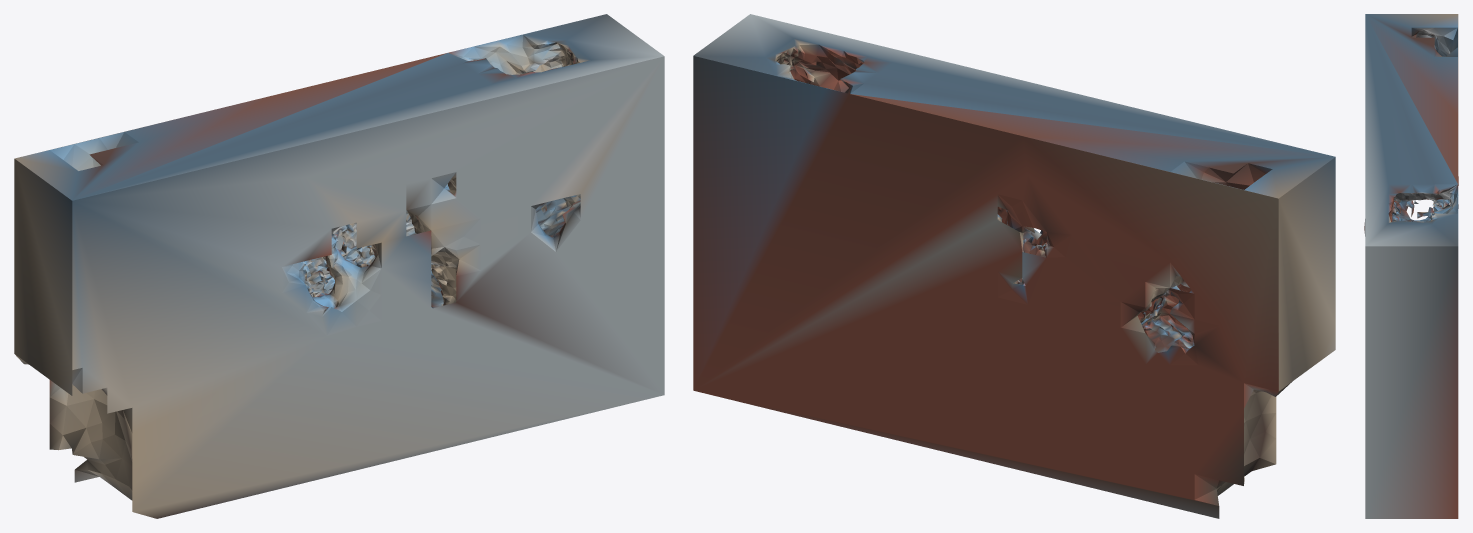
The picture shows the model from 3 angles, left to right: view 1: azimuth 30°, elevation 25°; view 2: azimuth 150°, elevation 25°; view 3: azimuth 270°, elevation 25°; orthographic projection. The views are drawn at different scales.
Visible parts, largest first — view 1: node_0; view 2: node_0; view 3: node_0.
Part boxes in pixels (box(x1,y1,x2,y2)): node_0: box(14, 14, 664, 518); node_0: box(693, 14, 1335, 518); node_0: box(1364, 14, 1458, 518).
Size of the model in its own units: 86.59 by 47.32 by 14.86.
